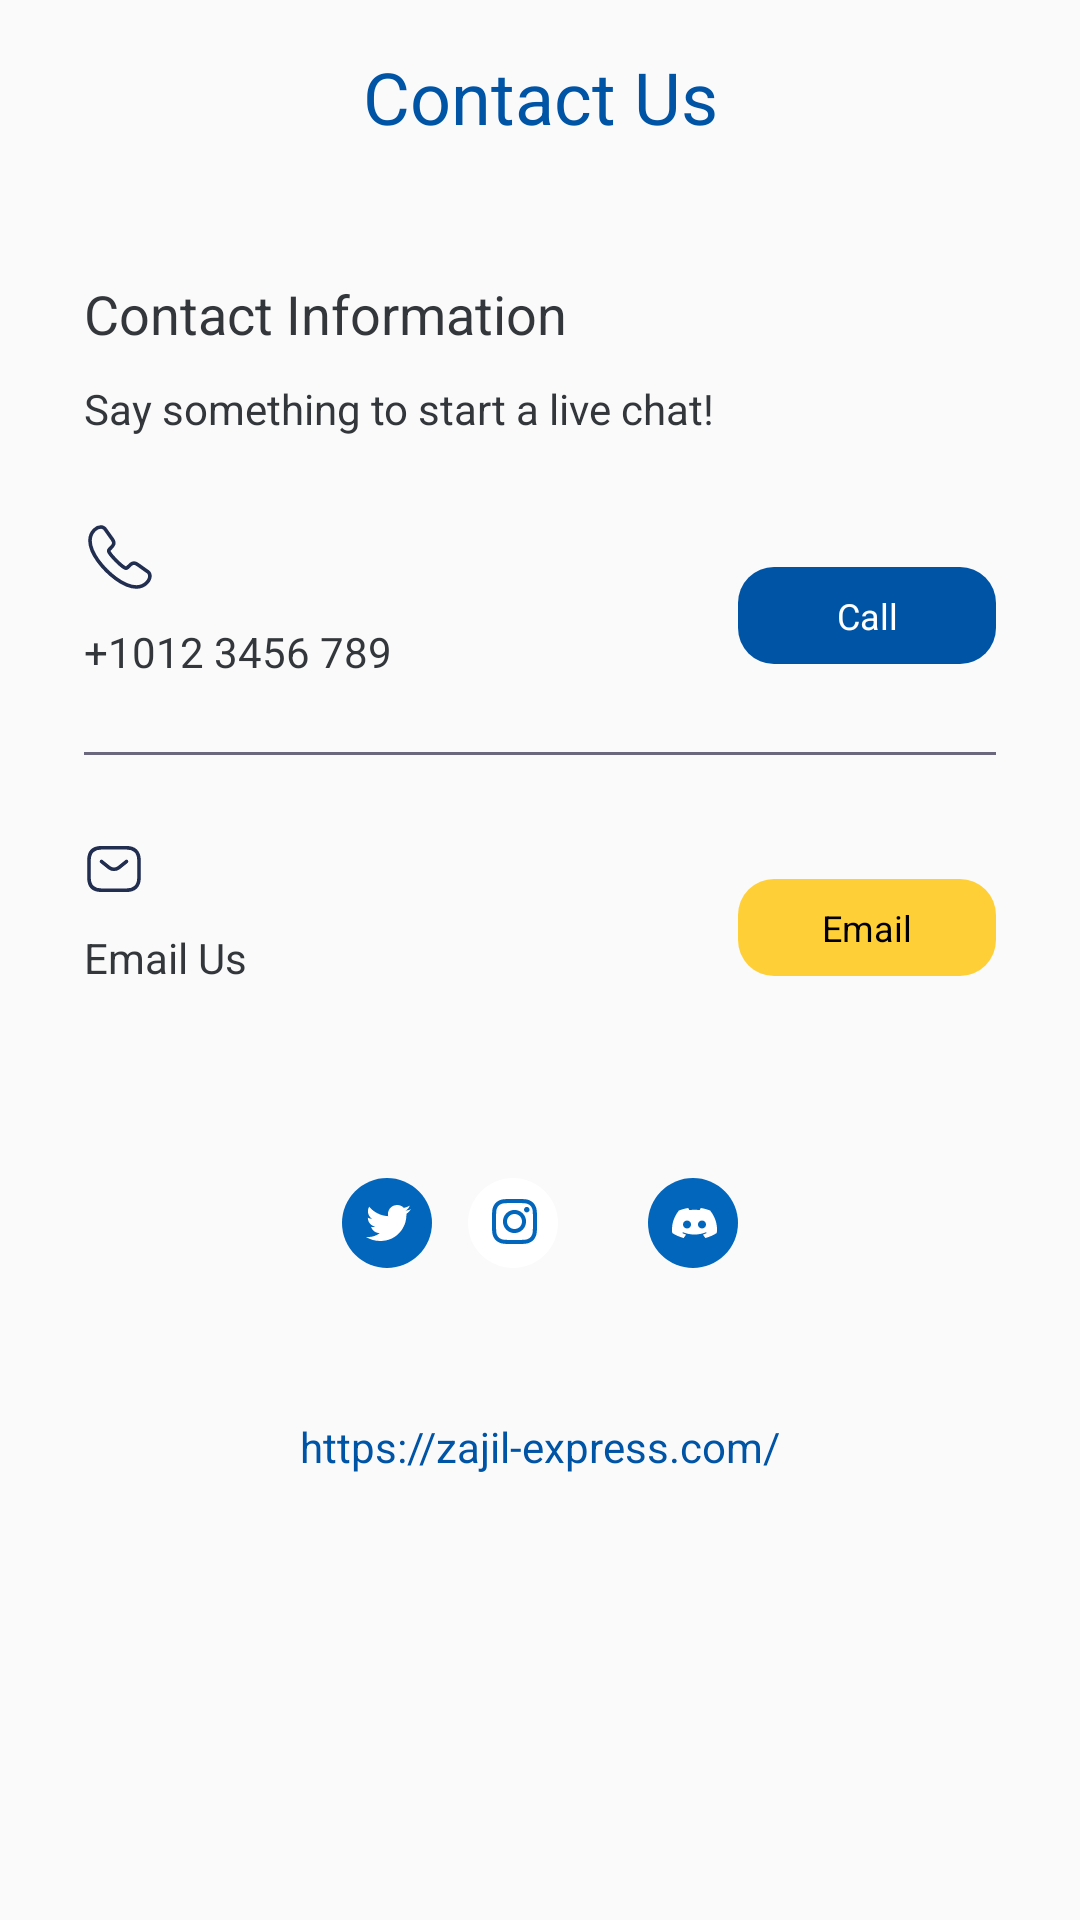

Point at icon controls on the screen. Image size 1080 × 1920, points as [x,y].
call: [120,557]
